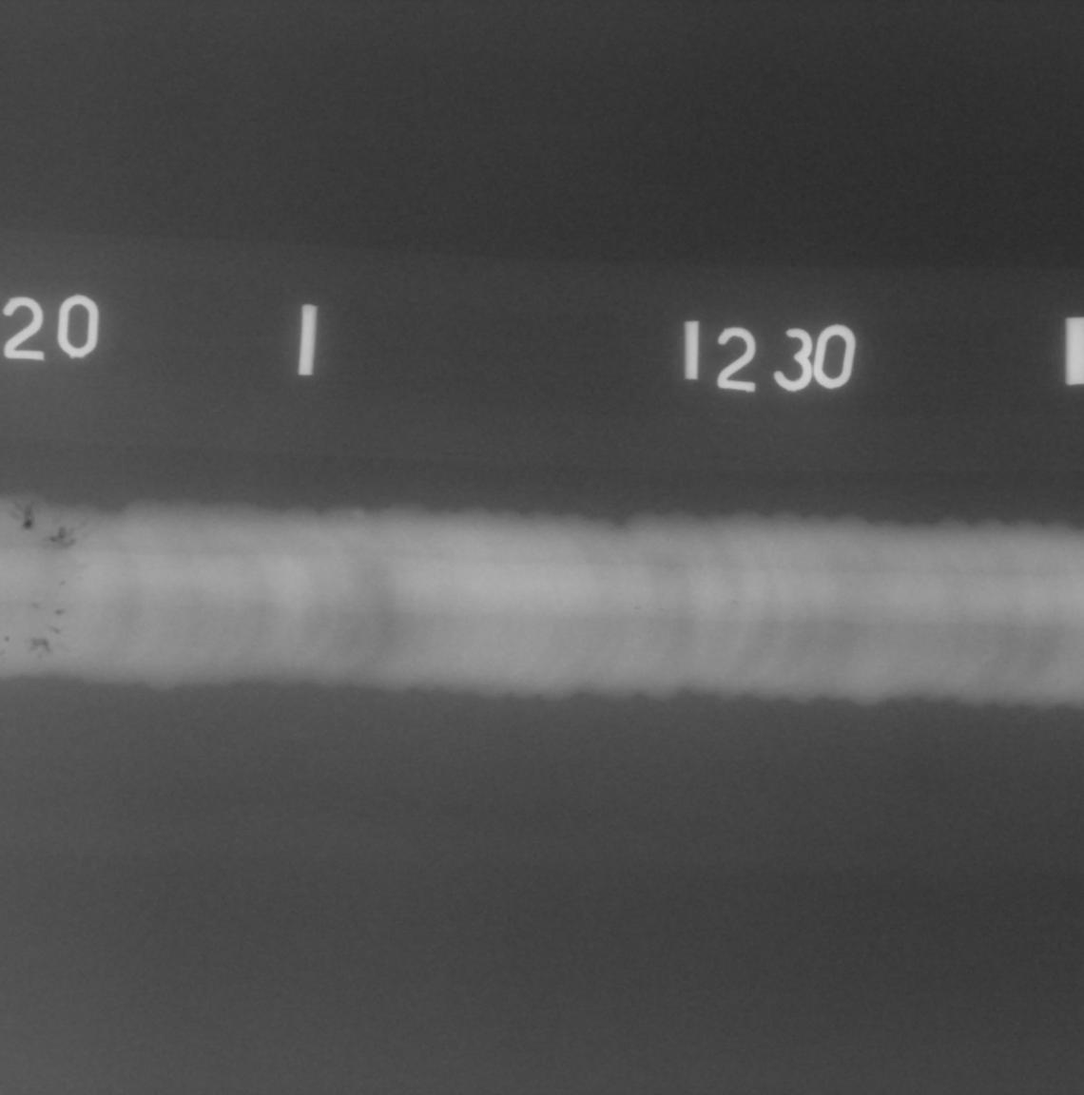Inclusion: (634, 607, 641, 610)
Pore/Porosity: (48, 527, 78, 551), (16, 499, 37, 529), (29, 637, 52, 652), (44, 623, 61, 636), (59, 645, 71, 653), (32, 600, 45, 607), (11, 510, 19, 521), (54, 609, 65, 615), (79, 564, 87, 570), (83, 519, 87, 527), (5, 637, 10, 641), (38, 655, 43, 659), (60, 582, 64, 586), (77, 576, 81, 579), (733, 601, 736, 604)
